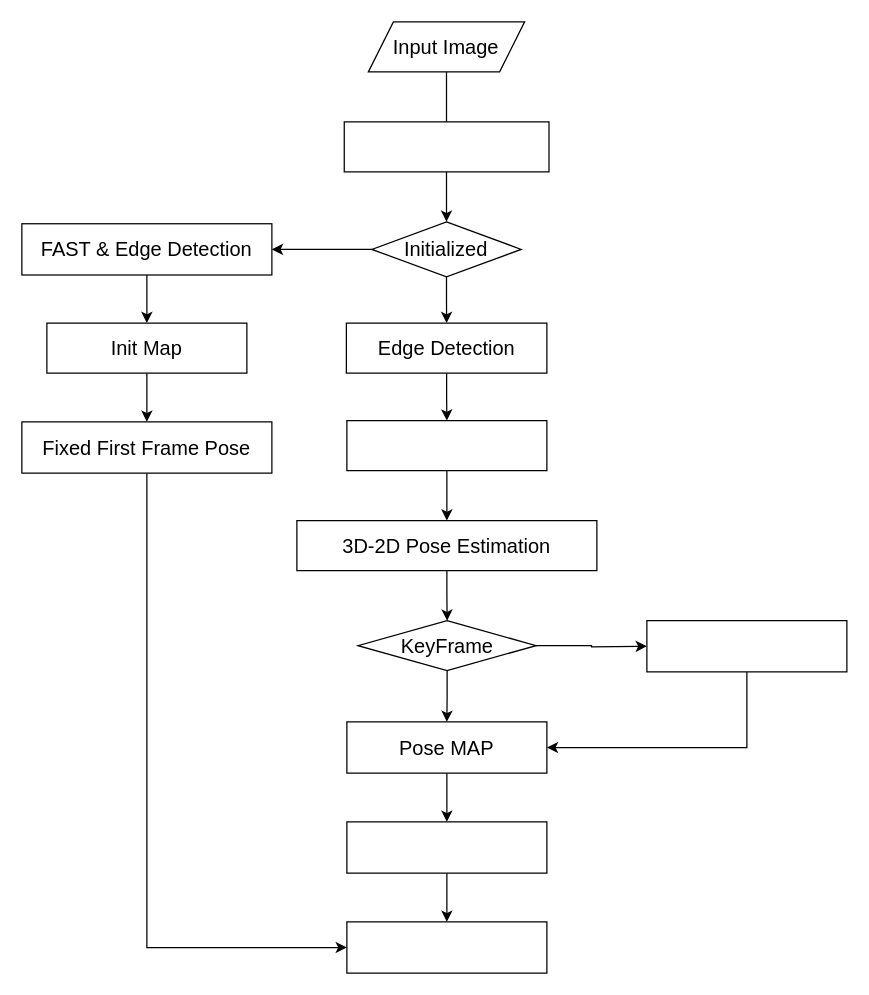
The diagram is 869 pixels wide and 995 high, and some of its shapes have lost their labels. Each missing label, with the centre of its shape:
Feature Tracking & Matching: [446,445]
Image PreProcessing: [446,146]
LBA: [446,847]
Line, 3D Plane: [746,645]
Output Pose: [446,947]
